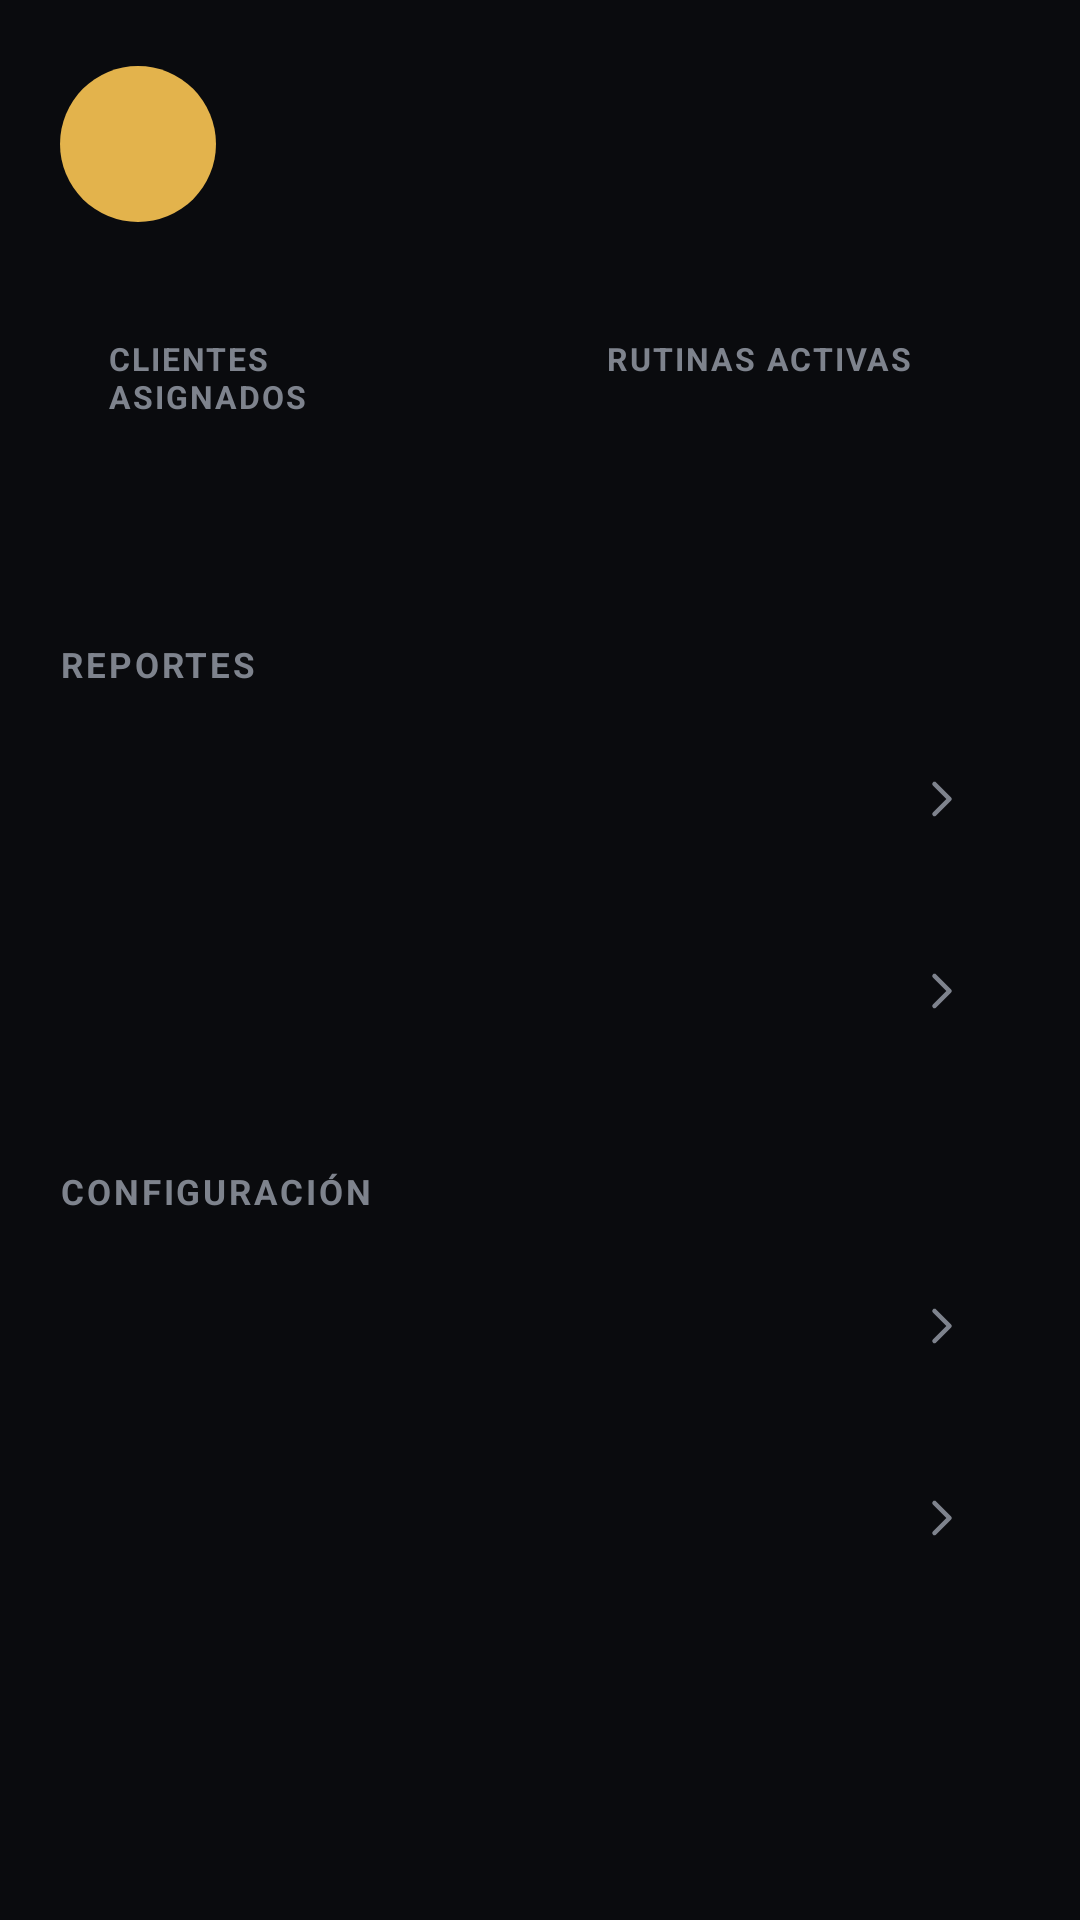

Screen size 1080 × 1920. Icon name, then its box in pixels as [x1,y1,x2,y2]:
derecha: [932,781,952,817], [932,973,952,1009], [932,1308,952,1344], [932,1500,952,1536]
